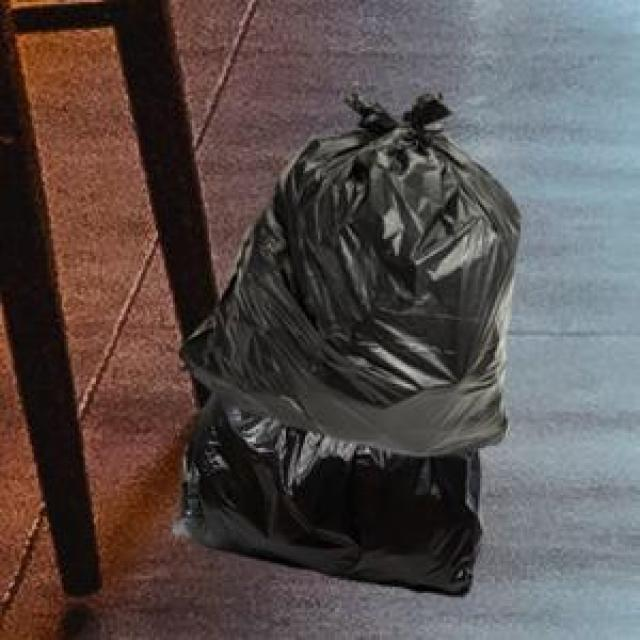miscellaneous trash: (175, 90, 516, 452), (169, 388, 478, 593)
